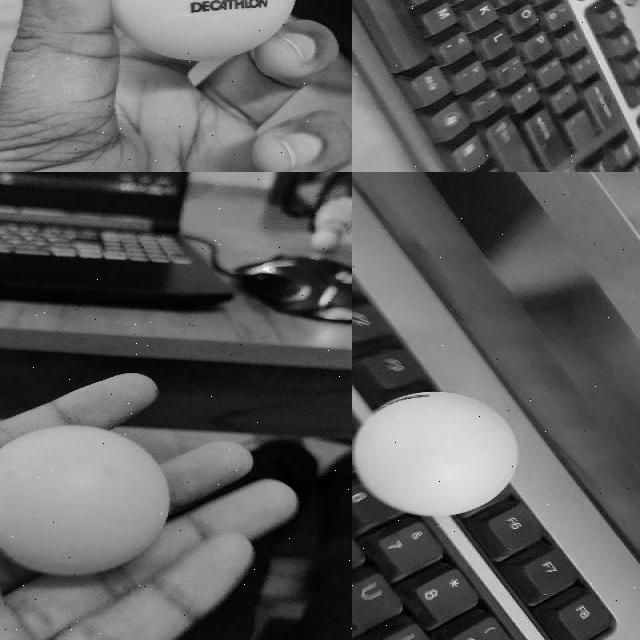ping-pong-ball: (0, 424, 168, 573), (354, 386, 512, 514), (101, 0, 296, 59)
